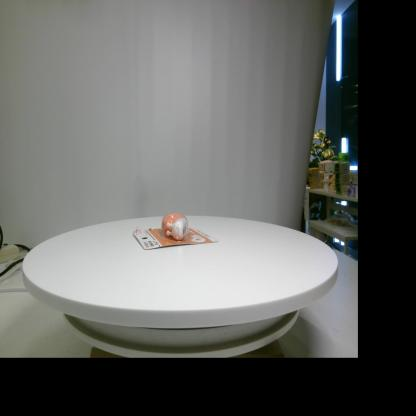Stationery: (133, 212, 218, 250)
